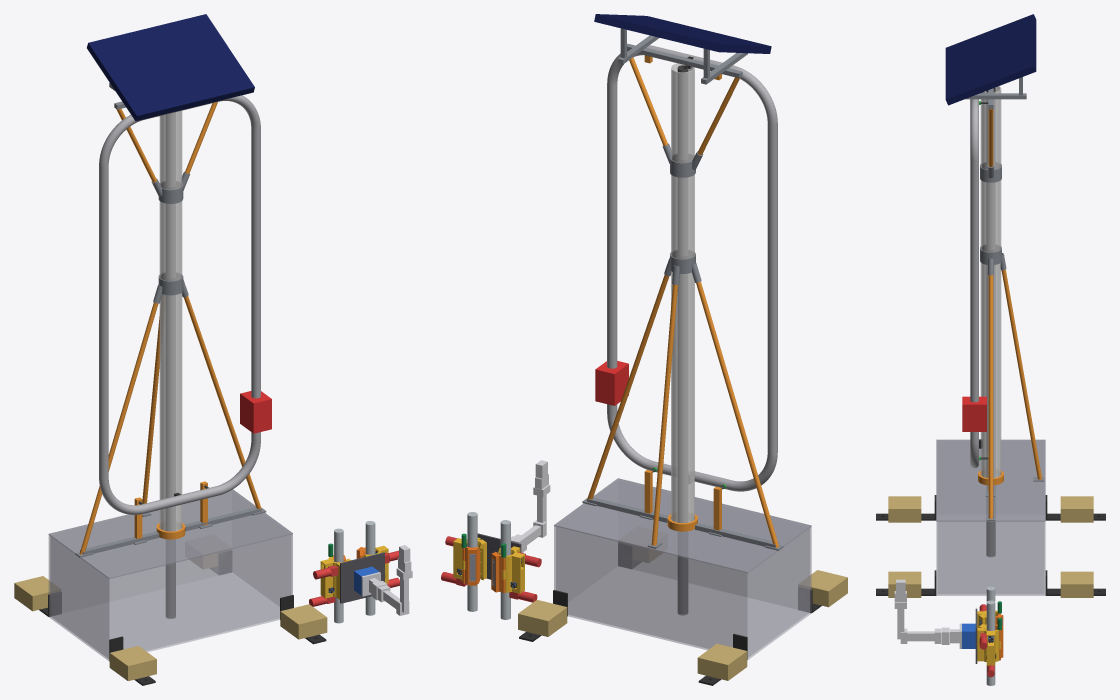
The model's file is assembly.glb.
The picture shows the model from 3 angles, left to right: view 1: azimuth 30°, elevation 25°; view 2: azimuth 150°, elevation 25°; view 3: azimuth 270°, elevation 25°; orthographic projection. The views are drawn at different scales.
Visible parts, largest first — view 1: tank, solar_panel_30W, track_loop, growing_pipe, lid, spine_tube, sandbags, lower_aframe_and_back_strut_16mm, so101_arm_envelope, fold_out_feet, base_bar_and_lid_plates, cart (+3 smaller); view 2: tank, track_loop, growing_pipe, lid, spine_tube, lower_aframe_and_back_strut_16mm, sandbags, solar_panel_30W, fold_out_feet, base_bar_and_lid_plates, clamp_collars_50mm, so101_arm_envelope (+9 smaller); view 3: tank, lid, growing_pipe, solar_panel_30W, sandbags, track_loop, spine_tube, lower_aframe_and_back_strut_16mm, so101_arm_envelope, fold_out_feet, cart, clamp_collars_50mm (+4 smaller).
Part boxes in pixels (x1=…): tank: x1=48, y1=534, x2=292, y2=660; solar_panel_30W: x1=87, y1=14, x2=254, y2=121; track_loop: x1=99, y1=95, x2=260, y2=514; growing_pipe: x1=159, y1=110, x2=182, y2=531; lid: x1=48, y1=489, x2=292, y2=578; spine_tube: x1=166, y1=112, x2=175, y2=618; sandbags: x1=14, y1=553, x2=327, y2=680; lower_aframe_and_back_strut_16mm: x1=79, y1=296, x2=262, y2=554; so101_arm_envelope: x1=361, y1=545, x2=412, y2=615; fold_out_feet: x1=39, y1=550, x2=326, y2=685; base_bar_and_lid_plates: x1=75, y1=507, x2=266, y2=557; cart: x1=240, y1=391, x2=271, y2=433; tank: x1=554, y1=526, x2=811, y2=659; track_loop: x1=607, y1=45, x2=777, y2=491; growing_pipe: x1=671, y1=63, x2=694, y2=523; lid: x1=554, y1=478, x2=811, y2=573; spine_tube: x1=677, y1=65, x2=688, y2=615; lower_aframe_and_back_strut_16mm: x1=586, y1=275, x2=778, y2=547; sandbags: x1=518, y1=546, x2=847, y2=680; solar_panel_30W: x1=594, y1=14, x2=771, y2=53; fold_out_feet: x1=519, y1=543, x2=821, y2=685; base_bar_and_lid_plates: x1=582, y1=497, x2=783, y2=550; clamp_collars_50mm: x1=662, y1=143, x2=703, y2=284; so101_arm_envelope: x1=511, y1=460, x2=550, y2=553; tank: x1=936, y1=521, x2=1045, y2=595; lid: x1=936, y1=439, x2=1045, y2=521; growing_pipe: x1=980, y1=86, x2=1001, y2=478; solar_panel_30W: x1=945, y1=14, x2=1036, y2=105; sandbags: x1=888, y1=496, x2=1093, y2=597; track_loop: x1=970, y1=99, x2=978, y2=468; spine_tube: x1=986, y1=87, x2=995, y2=556; lower_aframe_and_back_strut_16mm: x1=988, y1=269, x2=1041, y2=518; so101_arm_envelope: x1=894, y1=579, x2=961, y2=648; fold_out_feet: x1=876, y1=495, x2=1105, y2=595; cart: x1=962, y1=396, x2=986, y2=431; clamp_collars_50mm: x1=980, y1=164, x2=1006, y2=275.
Bounding box in the file's own units: 1246 × 2245 × 840.
